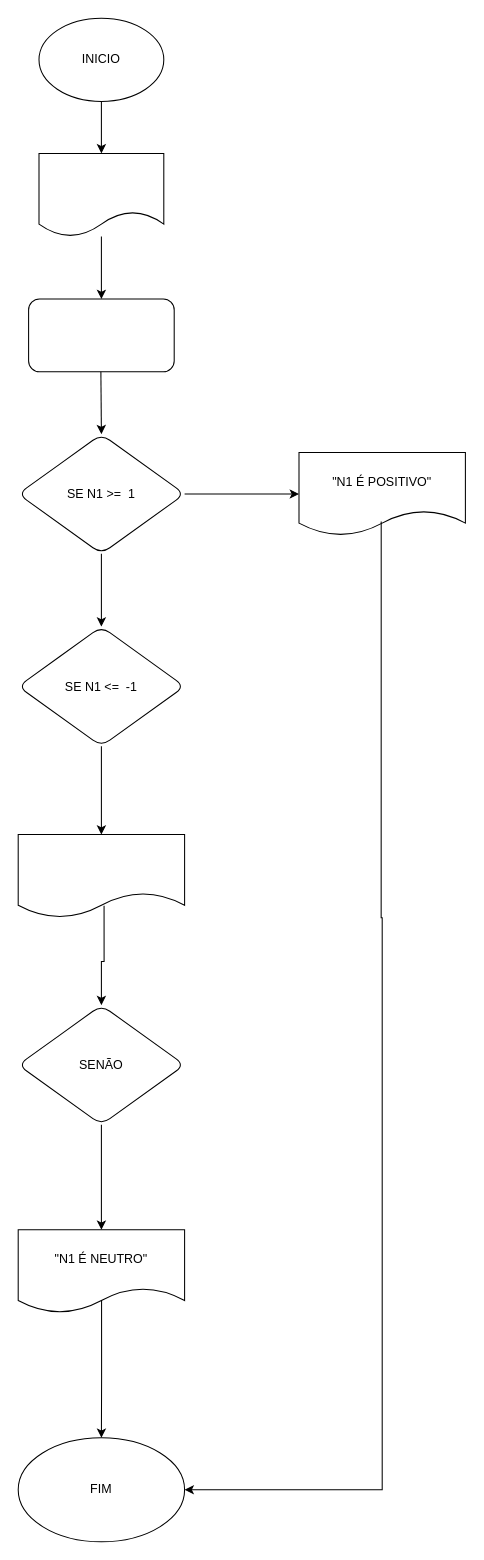
This 484x1560 diagram has some shape labels left out. Each missing label, with the centre of its shape:
"N1 É NEGATIVO": pixel 101 876
LEIA N1: pixel 101 335
N1: pixel 101 194
